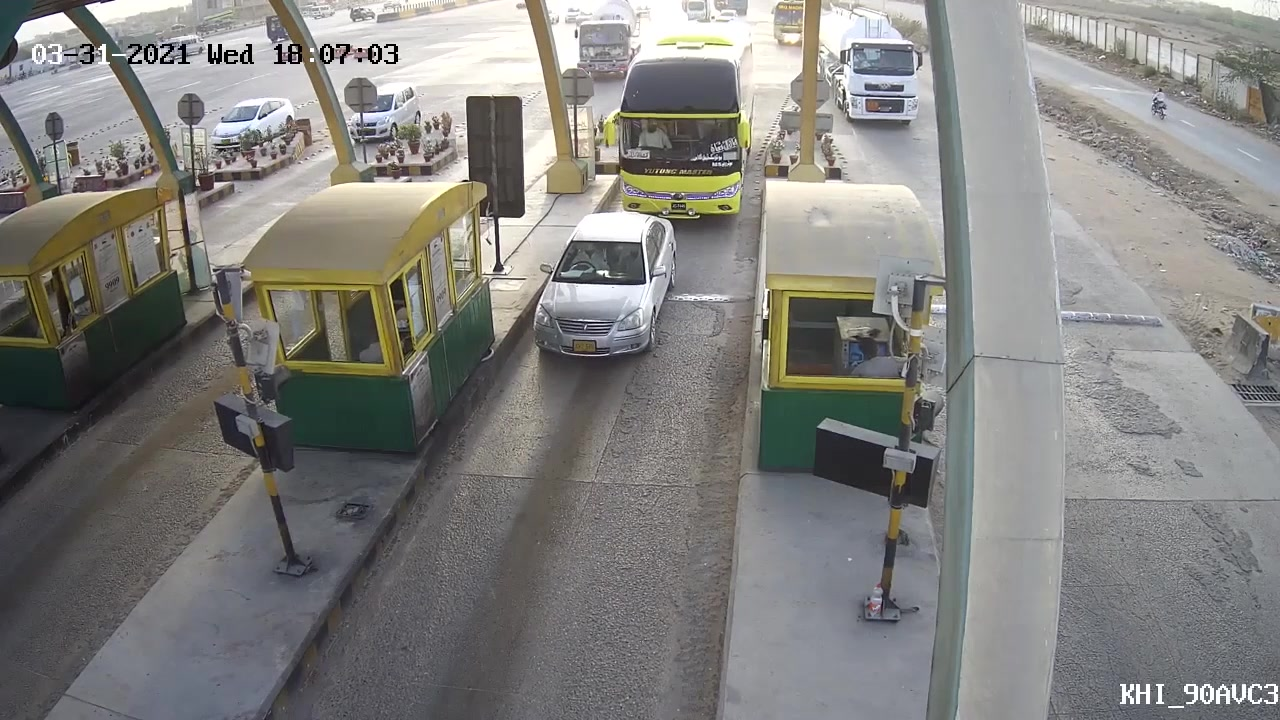F1: (524, 206, 684, 368)
